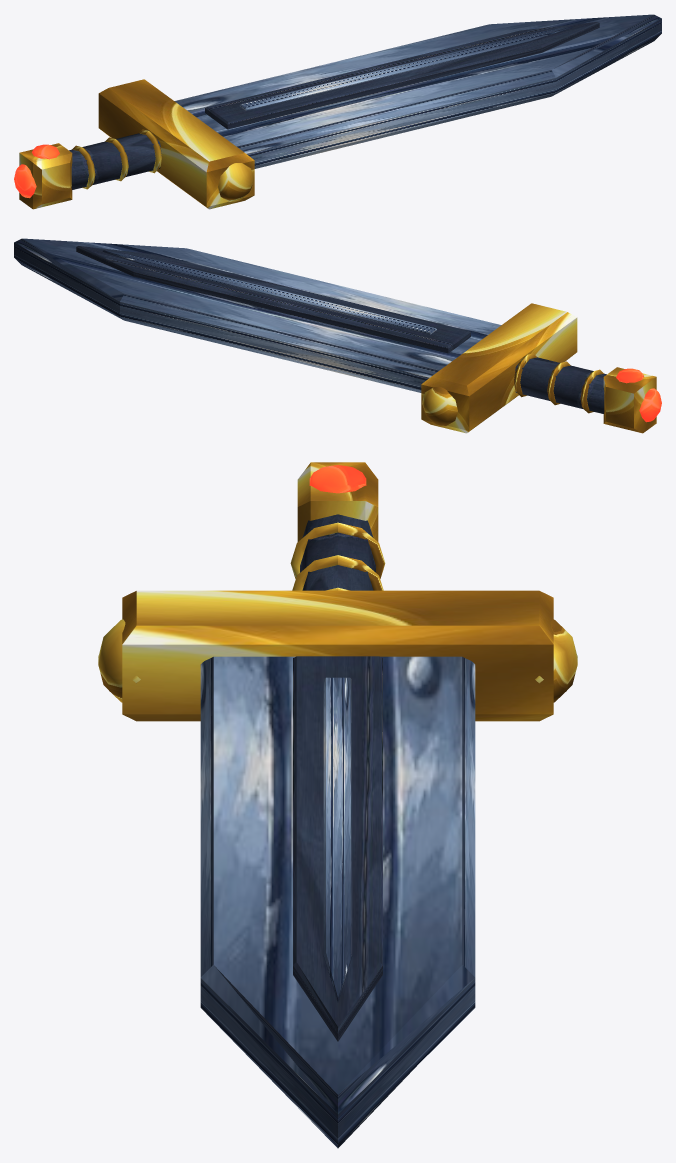
Rendered from brand.glb.
3 renders of one model, top to bottom at view 1: azimuth 30°, elevation 25°; view 2: azimuth 150°, elevation 25°; view 3: azimuth 270°, elevation 25°, orthographic. The views are drawn at different scales.
Parts seen in each view (by area): view 1: Knight_Brand; view 2: Knight_Brand; view 3: Knight_Brand.
Boxes of the visible parts, x1,y1,x2,y2 form: Knight_Brand: (14, 14, 661, 209); Knight_Brand: (14, 238, 661, 433); Knight_Brand: (98, 462, 577, 1148).
Size of the model in its own units: 0.7539 by 0.0597 by 0.2426.
Materials: 4 (4 with a texture image).
